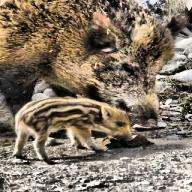boar: (0, 0, 190, 137)
